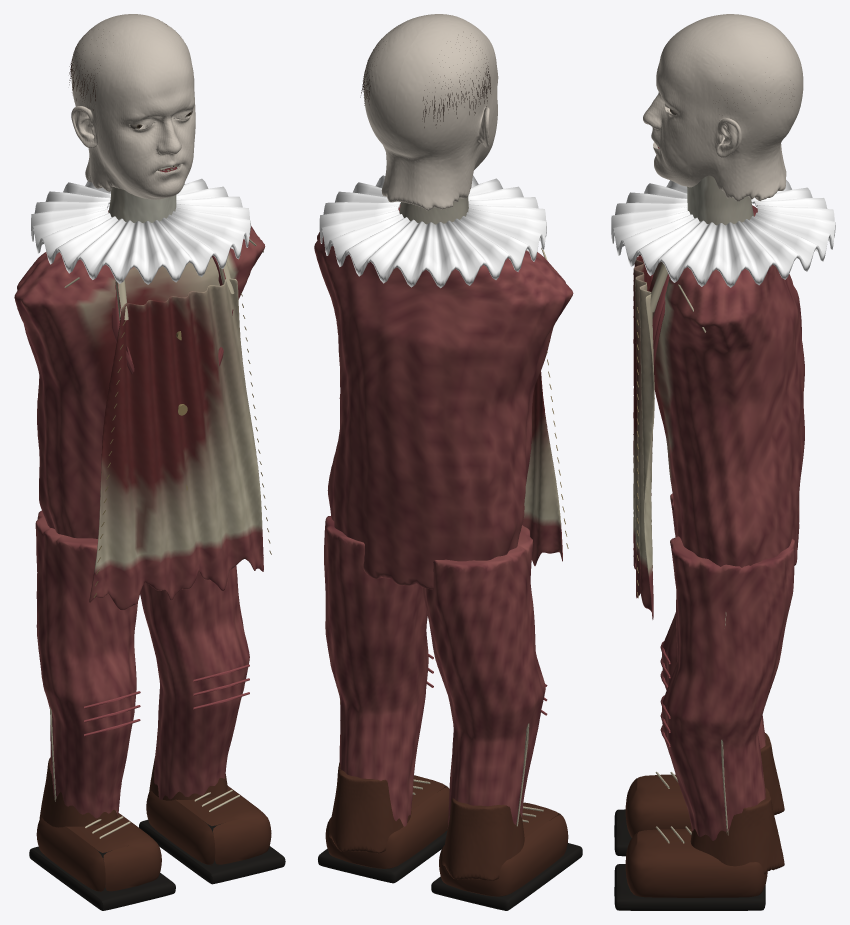
The model's file is clown.glb.
The picture shows the model from 3 angles, left to right: view 1: azimuth 30°, elevation 25°; view 2: azimuth 150°, elevation 25°; view 3: azimuth 270°, elevation 25°; orthographic projection. The views are drawn at different scales.
Visible parts, largest first — view 1: Body, Head; view 2: Body, Head, MattedHairStrands; view 3: Body, Head.
Part boxes in pixels (<box>): Body: <box>14,166,285,910</box>; Head: <box>71,14,195,199</box>; Body: <box>314,175,582,910</box>; Head: <box>363,14,498,210</box>; MattedHairStrands: <box>360,26,490,127</box>; Body: <box>611,175,835,910</box>; Head: <box>643,14,803,201</box>.
Bounding box in the file's own units: 0.6385 × 2.1 × 0.504.
